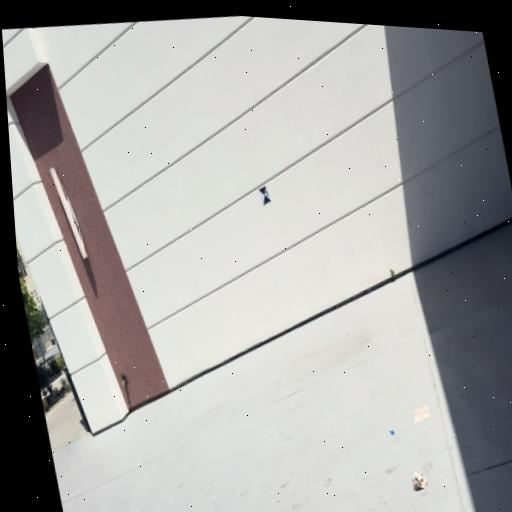target7: (259, 185, 272, 205)
